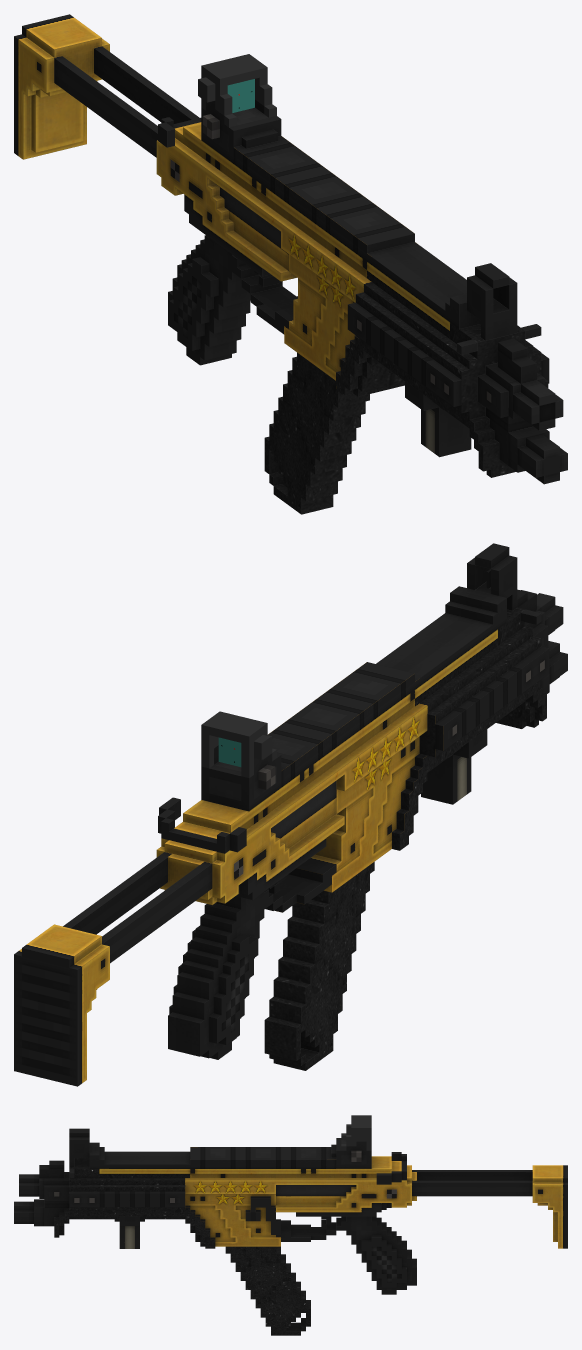
The model's file is RD_B7_VETERAN.glb.
3 views of the same model, one above another, from view 1: azimuth 30°, elevation 25°; view 2: azimuth 150°, elevation 25°; view 3: azimuth 270°, elevation 25° (orthographic). The views are drawn at different scales.
Visible parts, largest first — view 1: B7, B7_CLIP, B7_SCOPE2, B7_SCOPE1, B7_GRIP; view 2: B7, B7_CLIP, B7_SCOPE2, B7_SCOPE1, B7_GRIP, B7_BOLT; view 3: B7, B7_CLIP, B7_SCOPE2, B7_GRIP, B7_SCOPE1, B7_BOLT.
Boxes of the visible parts, bbox=[...] form: B7: bbox=[14, 14, 567, 484]; B7_CLIP: bbox=[264, 352, 369, 514]; B7_SCOPE2: bbox=[198, 54, 276, 127]; B7_SCOPE1: bbox=[467, 263, 517, 340]; B7_GRIP: bbox=[405, 381, 471, 457]; B7: bbox=[14, 586, 567, 1086]; B7_CLIP: bbox=[264, 862, 374, 1070]; B7_SCOPE2: bbox=[201, 711, 276, 777]; B7_SCOPE1: bbox=[467, 543, 517, 610]; B7_GRIP: bbox=[421, 729, 487, 804]; B7_BOLT: bbox=[158, 797, 246, 853]; B7: bbox=[14, 1138, 567, 1294]; B7_CLIP: bbox=[225, 1246, 310, 1335]; B7_SCOPE2: bbox=[341, 1115, 371, 1150]; B7_GRIP: bbox=[114, 1216, 144, 1248]; B7_SCOPE1: bbox=[69, 1128, 89, 1166]; B7_BOLT: bbox=[376, 1152, 406, 1184].
Bounding box in the file's own units: 0.1181 × 0.4527 × 1.08.
2 materials, 2 textured.
